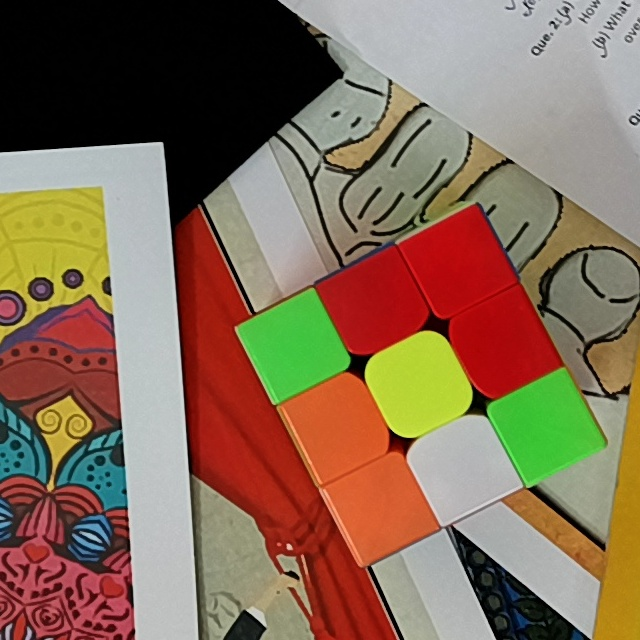tile: (469, 310, 536, 379), (384, 353, 452, 417), (512, 393, 577, 459), (347, 473, 411, 539), (429, 434, 495, 498), (305, 393, 369, 457), (428, 229, 492, 292), (263, 313, 325, 376), (345, 270, 404, 334)
